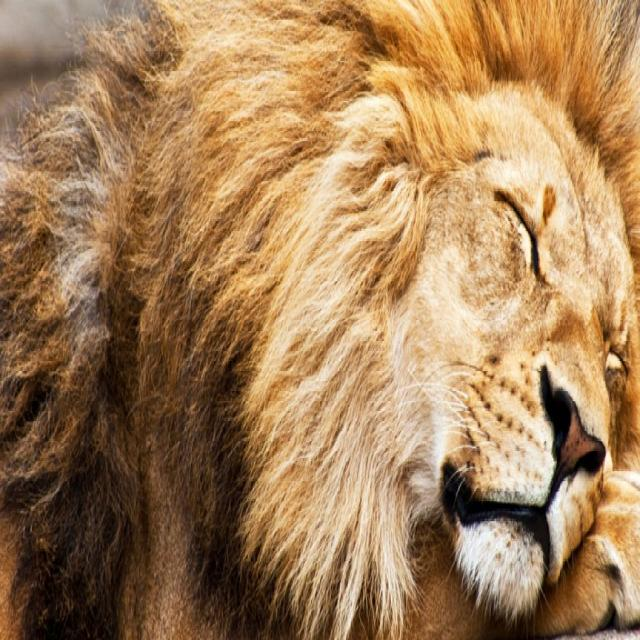lion: (1, 0, 640, 639)
